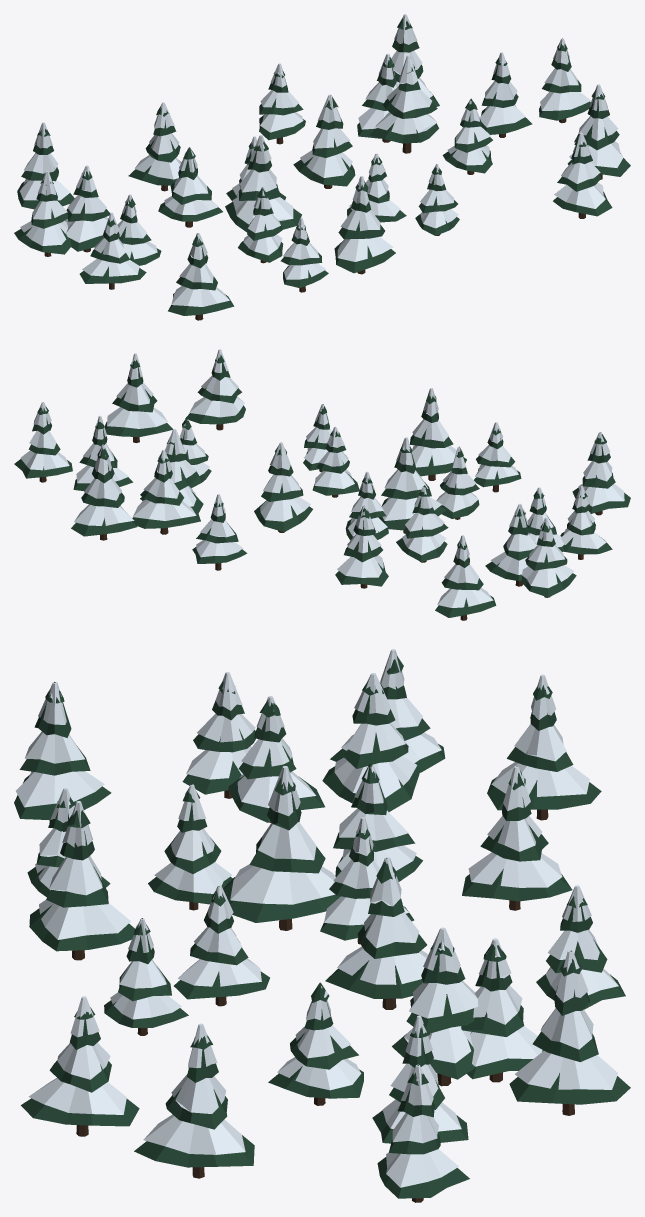
Rendered from Frontier_Grove_Mid_A.fbx.
The picture shows the model from 3 angles, top to bottom: view 1: azimuth 30°, elevation 25°; view 2: azimuth 150°, elevation 25°; view 3: azimuth 270°, elevation 25°; orthographic projection. The views are drawn at different scales.
Parts seen in each view (by area): view 1: Frontier_Grove_Mid_A; view 2: Frontier_Grove_Mid_A; view 3: Frontier_Grove_Mid_A.
Boxes of the visible parts, <box> form: Frontier_Grove_Mid_A: <box>14,14,630,320</box>; Frontier_Grove_Mid_A: <box>14,349,630,620</box>; Frontier_Grove_Mid_A: <box>14,649,630,1202</box>.
Bounding box in the file's own units: 4074 × 675 × 2334.
